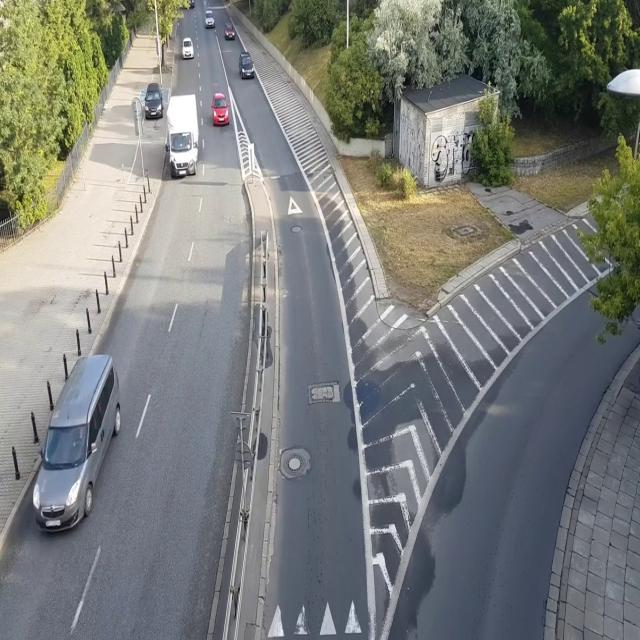car: (143, 82, 164, 121), (210, 89, 231, 127), (238, 50, 256, 81), (181, 35, 195, 61), (224, 21, 235, 41), (205, 9, 215, 29), (180, 0, 196, 8)
truck: (165, 93, 200, 181)
van: (30, 353, 122, 540)
